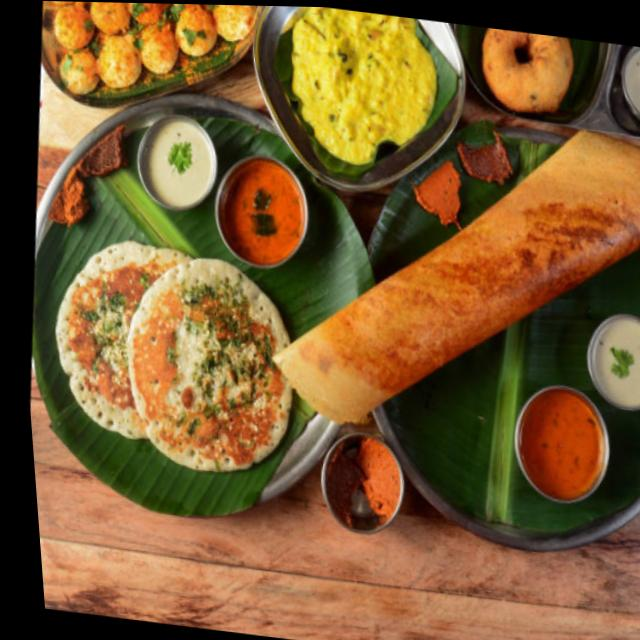DOSA: (272, 136, 640, 428), (56, 240, 291, 469)
RED CHUTNEY: (523, 394, 598, 499), (222, 162, 299, 262)
VADA: (479, 26, 573, 107)
WHITE CHUTNEY: (148, 123, 207, 200), (595, 321, 640, 405)
